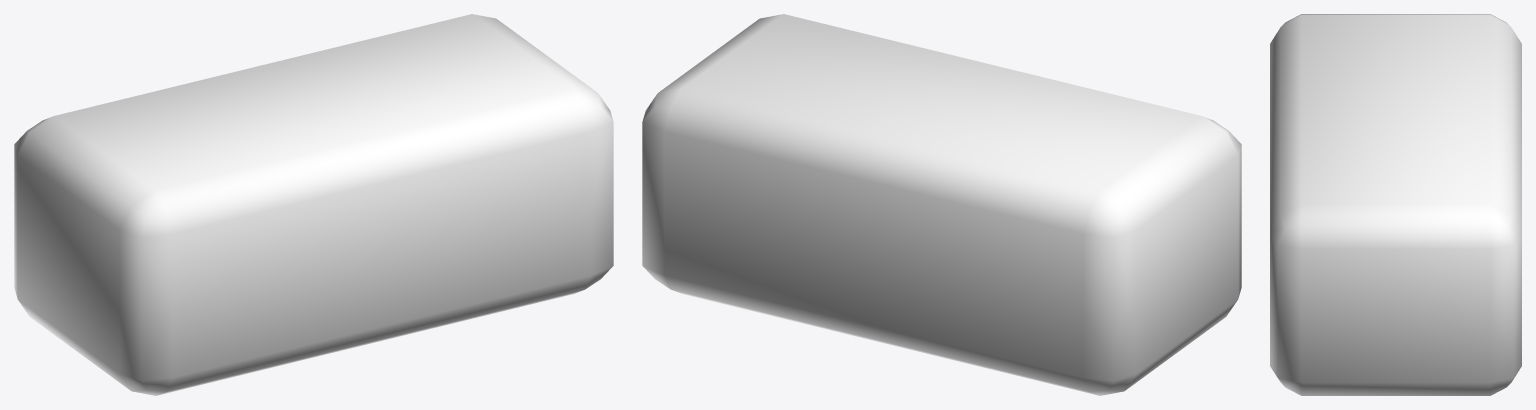
File: WhiteBrick.obj
3 views of the same model, side by side, from view 1: azimuth 30°, elevation 25°; view 2: azimuth 150°, elevation 25°; view 3: azimuth 270°, elevation 25° (orthographic). The views are drawn at different scales.
Parts seen in each view (by area): view 1: OriginalBrick.001_Cube.003; view 2: OriginalBrick.001_Cube.003; view 3: OriginalBrick.001_Cube.003.
Boxes of the visible parts, x1,y1,x2,y2 form: OriginalBrick.001_Cube.003: [14, 14, 613, 395]; OriginalBrick.001_Cube.003: [642, 14, 1241, 395]; OriginalBrick.001_Cube.003: [1270, 14, 1521, 395].
Bounding box in the file's own units: 0.9 × 0.36 × 0.4316.
1 material, 1 textured.
